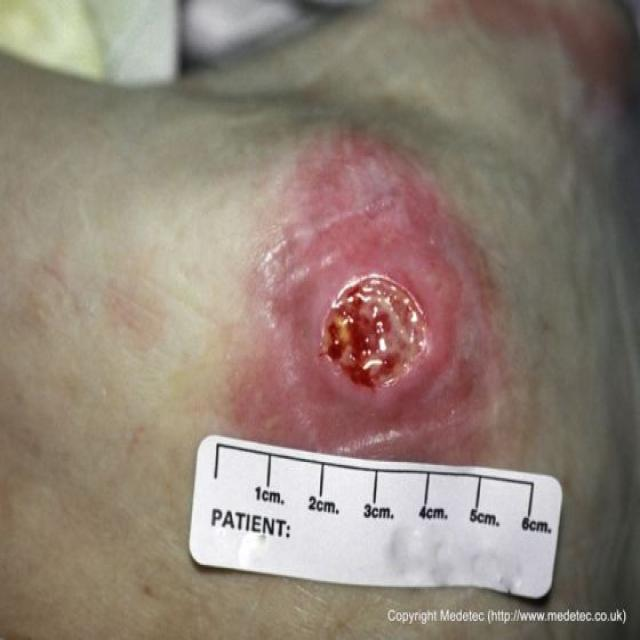stage-3: (321, 274, 426, 387)
